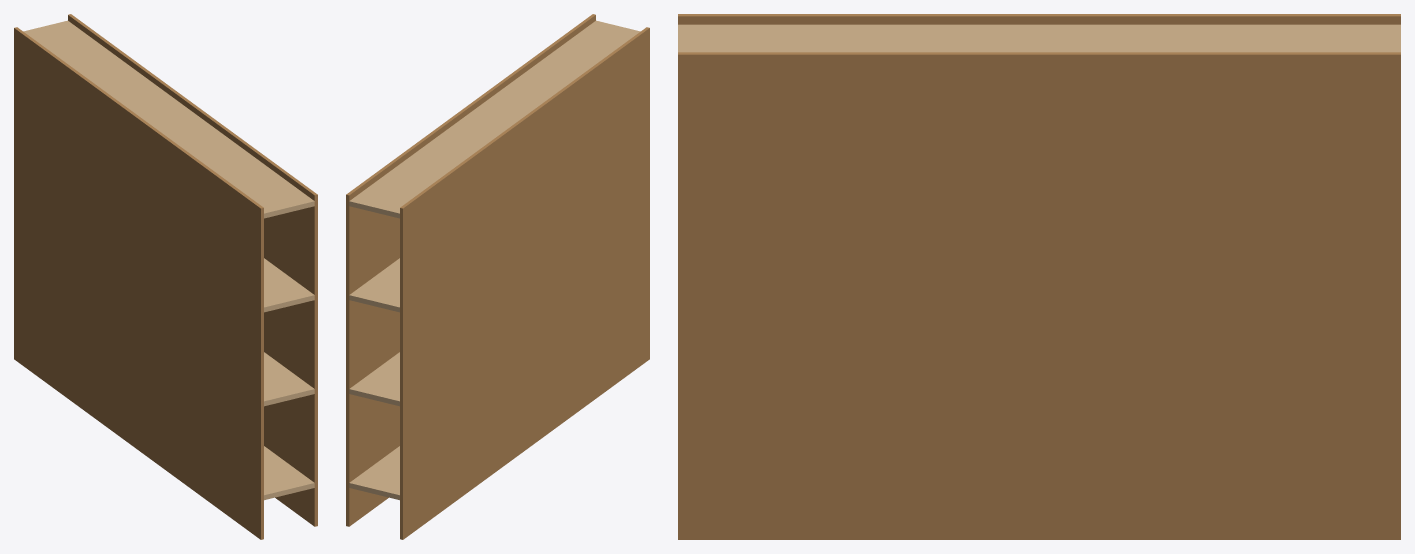
3 views of the same model, side by side, from view 1: azimuth 30°, elevation 25°; view 2: azimuth 150°, elevation 25°; view 3: azimuth 270°, elevation 25° (orthographic). The views are drawn at different scales.
Parts seen in each view (by area): view 1: estante_bodega_a; view 2: estante_bodega_a; view 3: estante_bodega_a.
Part boxes in pixels (left/top/right/bottom): estante_bodega_a: left=14, top=14, right=317, bottom=539; estante_bodega_a: left=346, top=14, right=649, bottom=539; estante_bodega_a: left=678, top=14, right=1400, bottom=539.
Bounding box in the file's own units: 0.36 × 2.7 × 2.
